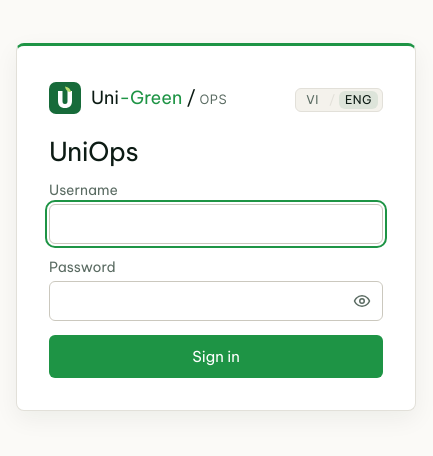
Test: Login › reports the server's reason and clears the password
Step 1. Type "office" into the field labelled "Username" → coordinates (216, 224), box [49, 204, 383, 244]
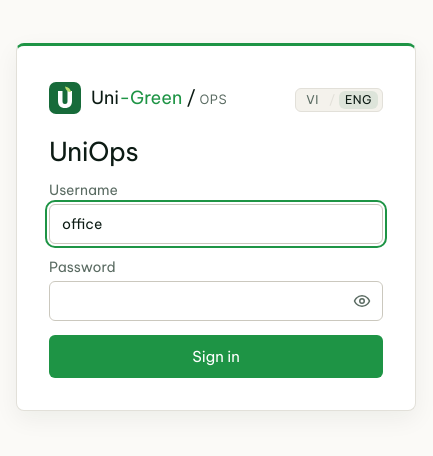
Step 2. Type "wrong" into the password field labelled "Password" → coordinates (216, 301), box [49, 281, 383, 321]
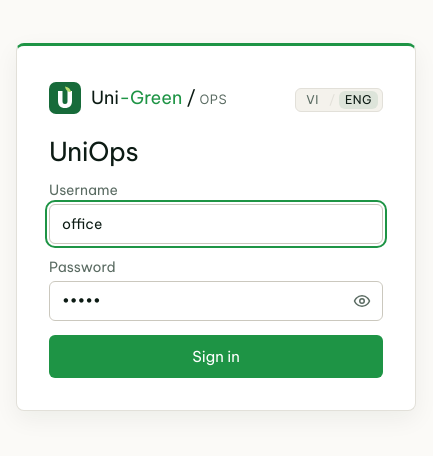
Step 3. Click the button "Sign in" → coordinates (216, 357), box [49, 335, 383, 378]
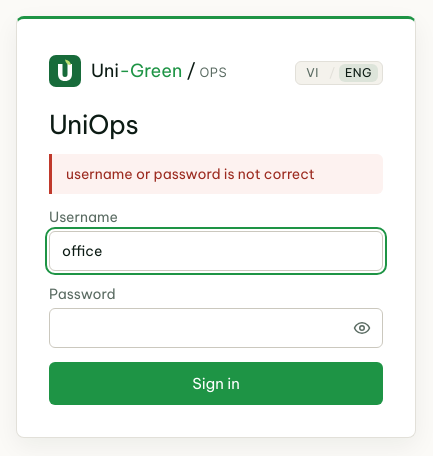
Now the message reads "username or password is not correct", box [66, 165, 315, 183]
Now the password field labelled "Password" is empty, box [49, 308, 383, 348]
